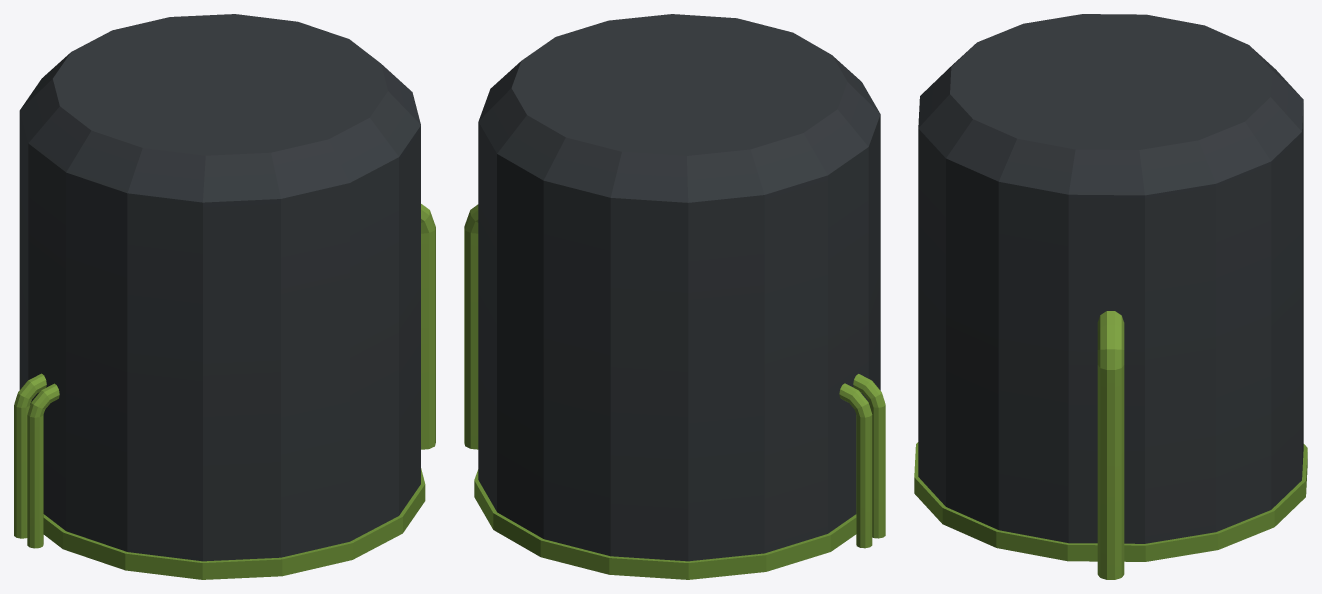
The model's file is Factory_02.fbx.
3 views of the same model, side by side, from view 1: azimuth 30°, elevation 25°; view 2: azimuth 150°, elevation 25°; view 3: azimuth 270°, elevation 25° (orthographic). The views are drawn at different scales.
Visible parts, largest first — view 1: Factory_02; view 2: Factory_02; view 3: Factory_02.
Part boxes in pixels (bbox=[...]): Factory_02: bbox=[14, 14, 435, 579]; Factory_02: bbox=[464, 14, 885, 579]; Factory_02: bbox=[914, 14, 1307, 579].
Size of the model in its own units: 6.56 by 6.22 by 5.59.
